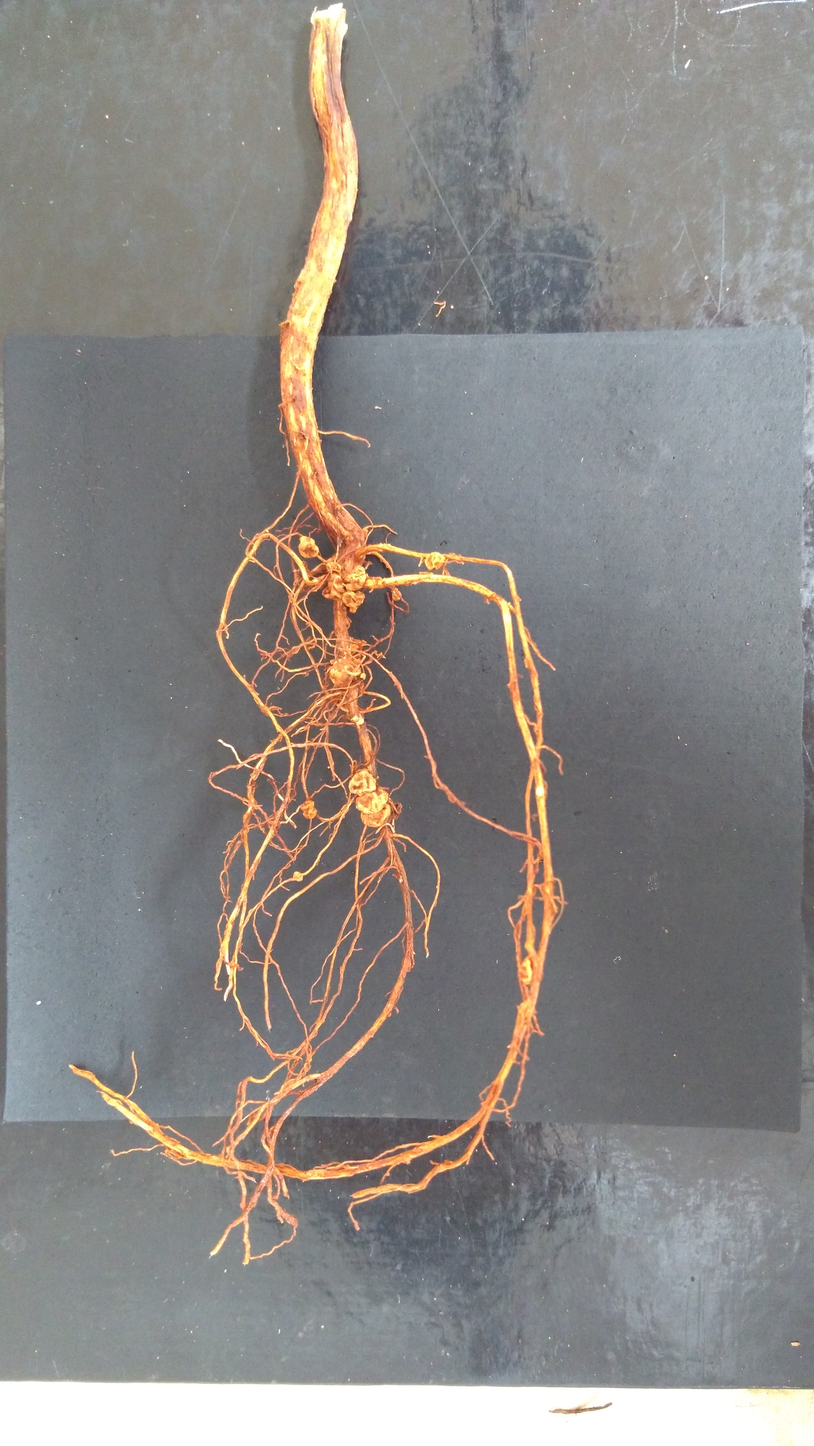nodule: (329, 657, 367, 686), (355, 787, 389, 814), (348, 770, 378, 797), (360, 803, 390, 828), (517, 954, 539, 986), (343, 565, 367, 591), (322, 573, 345, 600), (341, 590, 366, 614), (297, 535, 319, 558), (516, 996, 537, 1019), (424, 551, 446, 571), (348, 635, 368, 654), (300, 800, 317, 819), (266, 814, 281, 830), (324, 561, 342, 573), (351, 713, 365, 726), (392, 587, 402, 602), (292, 870, 303, 883), (345, 615, 352, 630), (359, 672, 367, 680), (362, 528, 368, 538)
